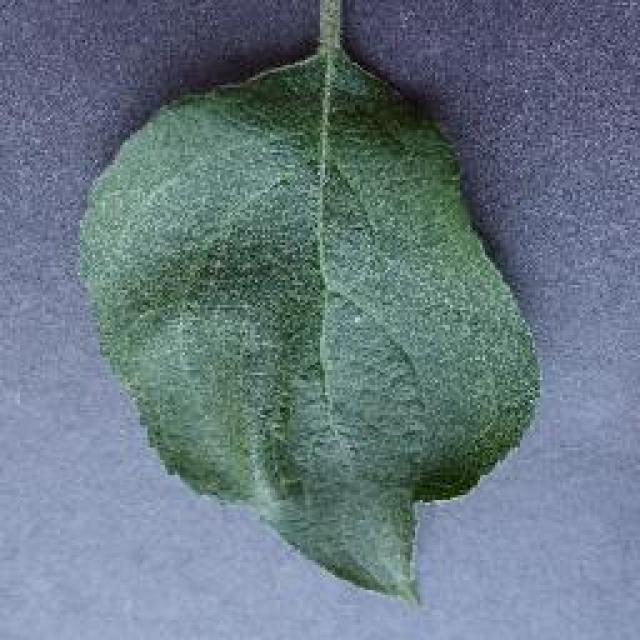apple healthy: (72, 13, 542, 605)
